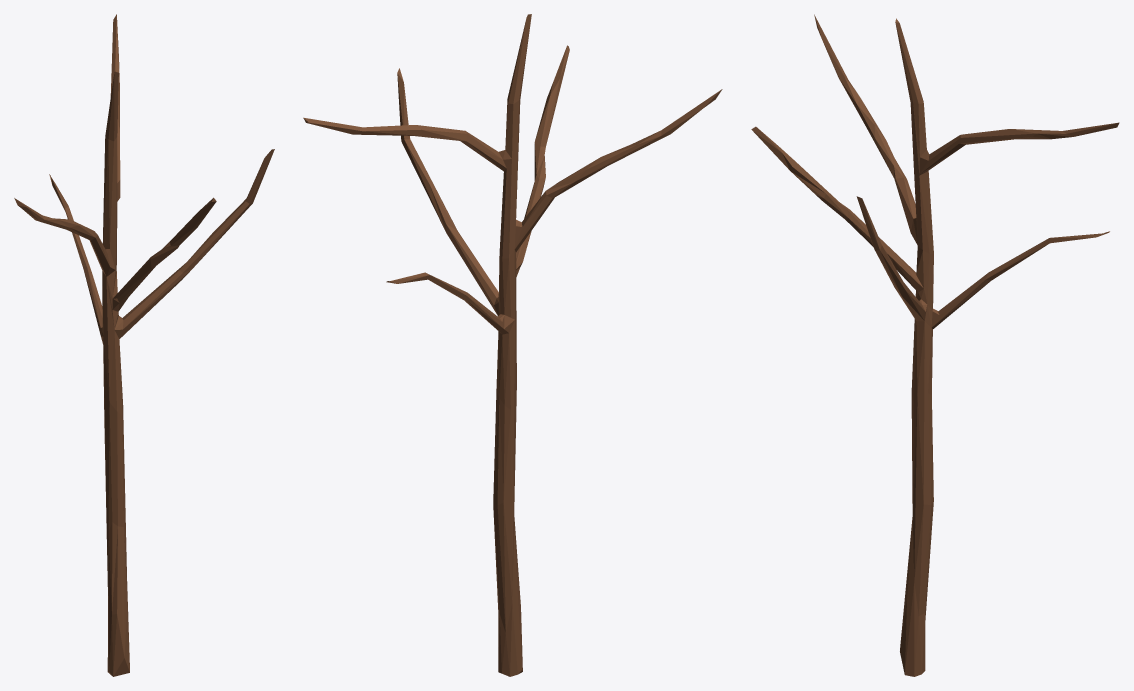
The model's file is SM_tree_winter_03.fbx.
3 renders of one model, left to right at view 1: azimuth 30°, elevation 25°; view 2: azimuth 150°, elevation 25°; view 3: azimuth 270°, elevation 25°, orthographic. The views are drawn at different scales.
Parts seen in each view (by area): view 1: Object066; view 2: Object066; view 3: Object066.
Boxes of the visible parts, <box> form: Object066: <box>14,14,274,676</box>; Object066: <box>303,14,722,676</box>; Object066: <box>751,14,1119,676</box>.
Size of the model in its own units: 101 by 108 by 210.
